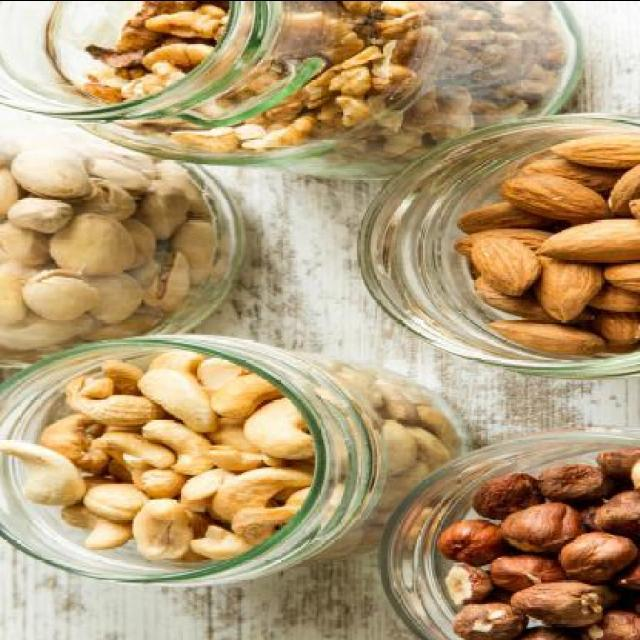Frutta secca: (4, 354, 318, 572), (448, 138, 640, 350), (441, 455, 640, 638)
